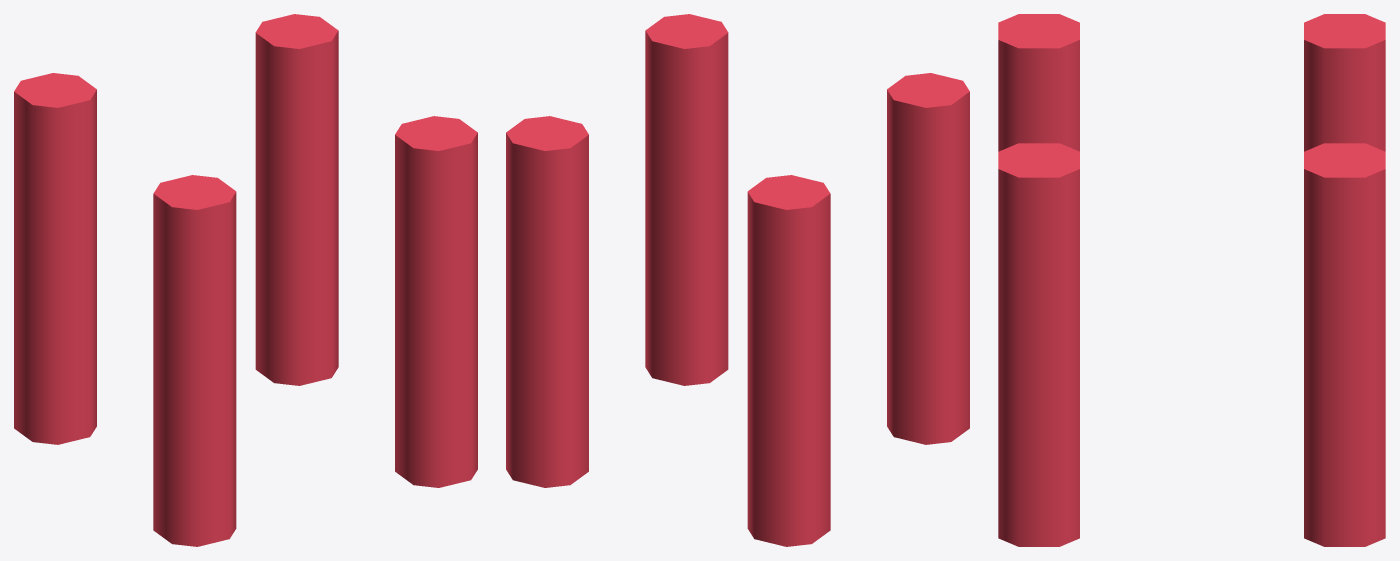
File: supports.fbx
3 views of the same model, side by side, from view 1: azimuth 30°, elevation 25°; view 2: azimuth 150°, elevation 25°; view 3: azimuth 270°, elevation 25° (orthographic). The views are drawn at different scales.
Visible parts, largest first — view 1: supports; view 2: supports; view 3: supports.
Part boxes in pixels (box(x1,y1,x2,y2)): supports: box(14, 14, 477, 546); supports: box(506, 14, 969, 546); supports: box(998, 14, 1385, 546).
Bounding box in the file's own units: 9.5 × 10 × 9.5.
